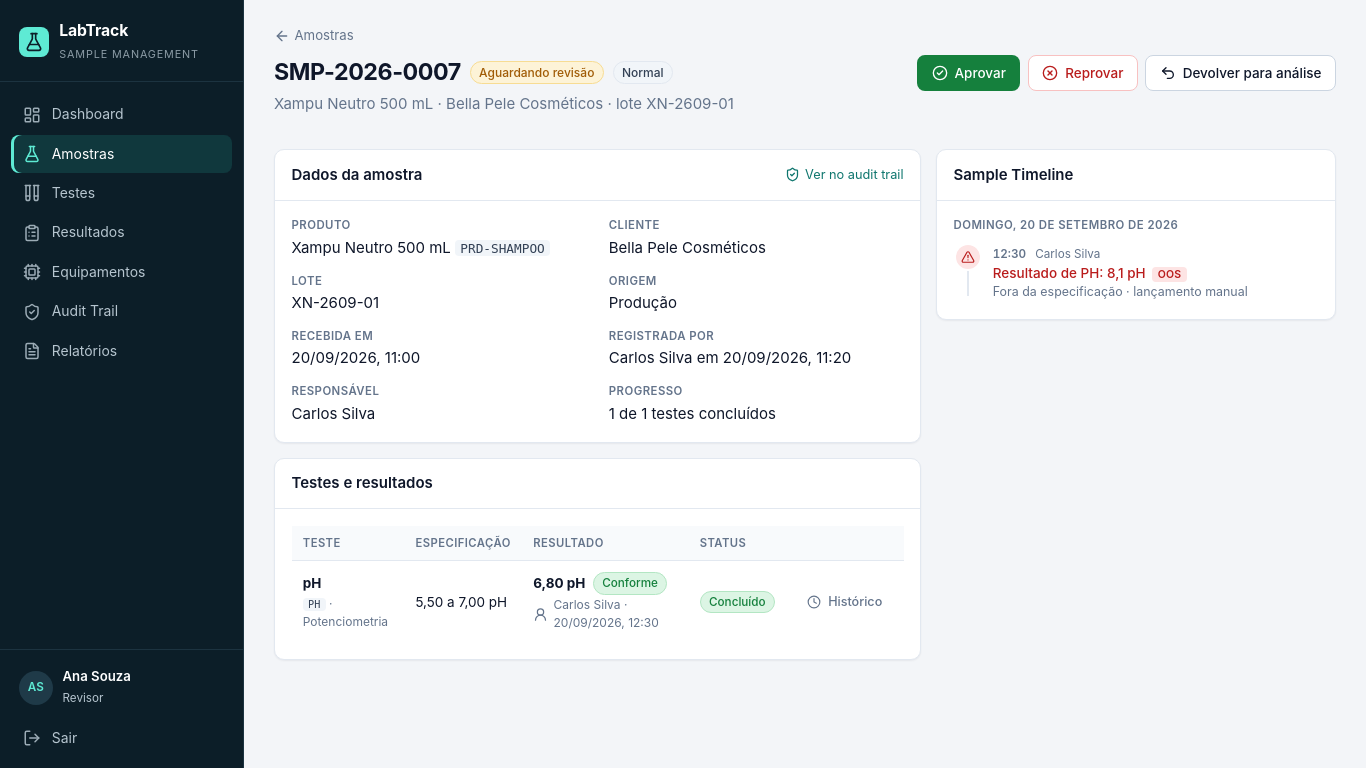
detalhe da amostra › aprovação exige a senha e atualiza a tela
Click the button "Aprovar". click: (969, 73)
box: top-left (917, 55), bottom-right (1020, 91)
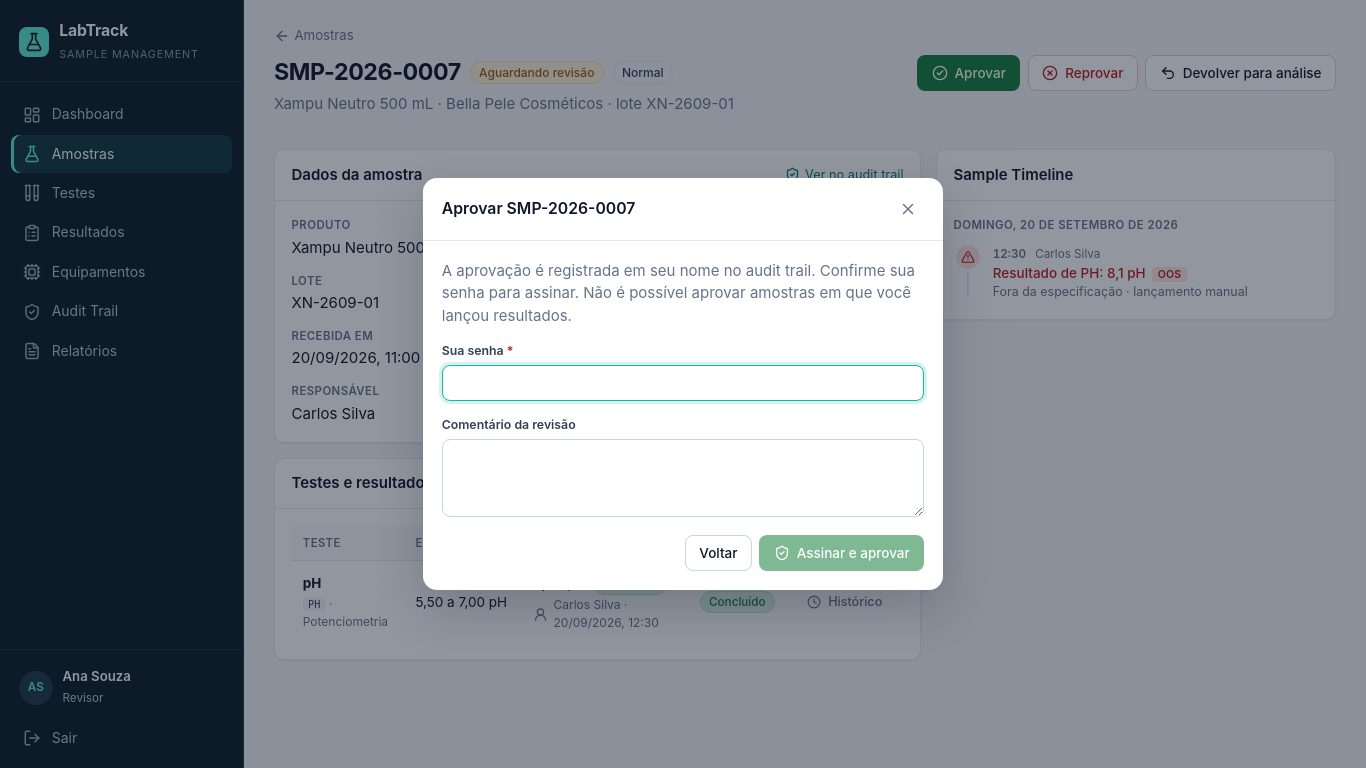
Now the button "Assinar e aprovar" is disabled, box top-left (760, 535), bottom-right (924, 571)
Type "Demo@2026" into the password field labelled "Sua senha *". click: (683, 383)
box: top-left (442, 365), bottom-right (924, 401)
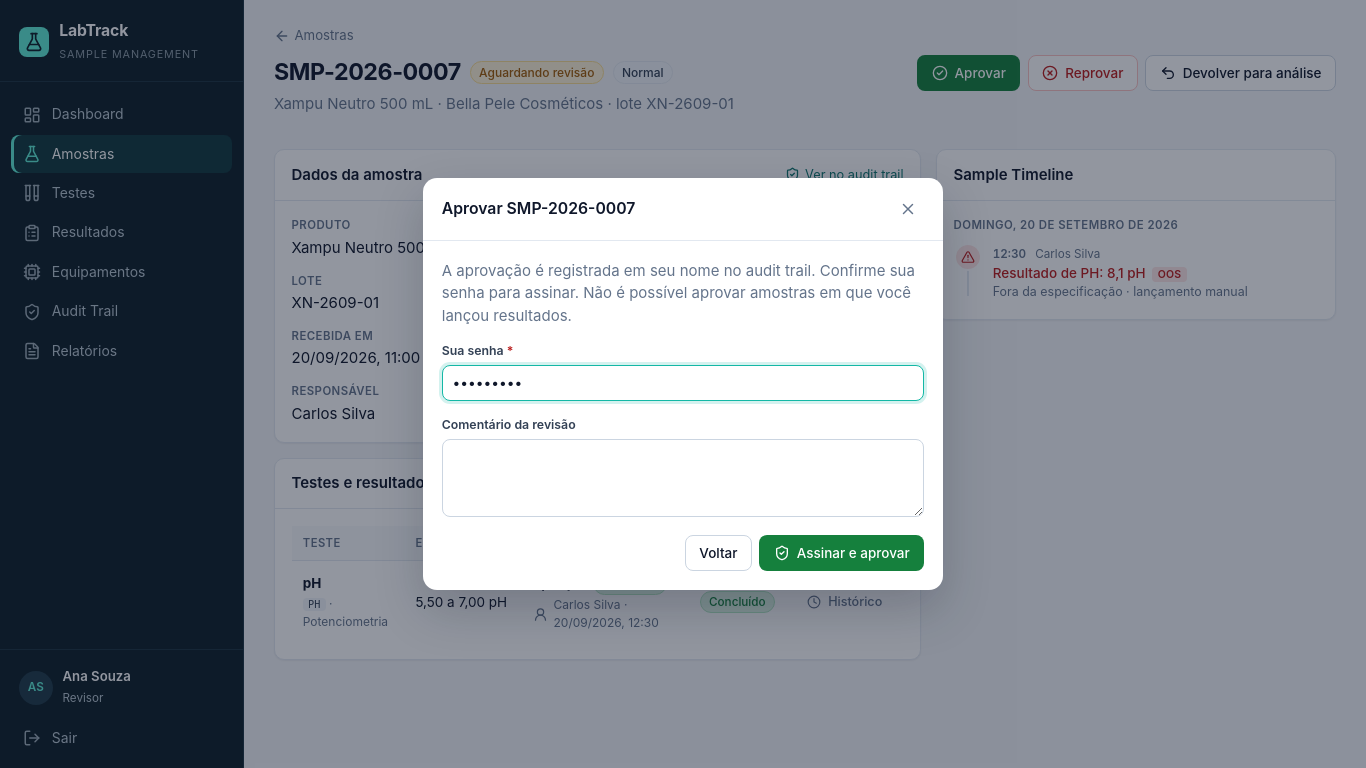
Type "Conferido" into the text box labelled "Comentário da revisão". click: (683, 478)
box: top-left (442, 439), bottom-right (924, 517)
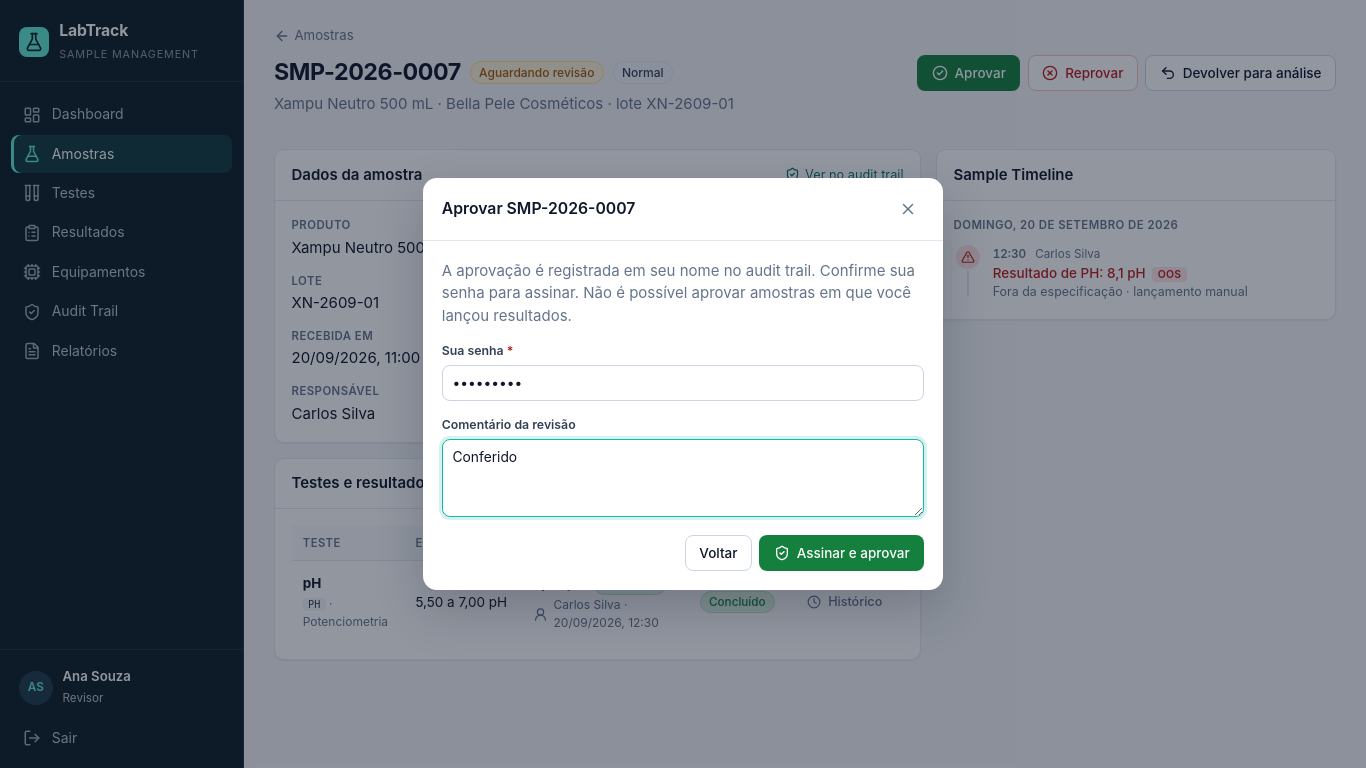
Click the button "Assinar e aprovar". click: (842, 553)
box: top-left (760, 535), bottom-right (924, 571)
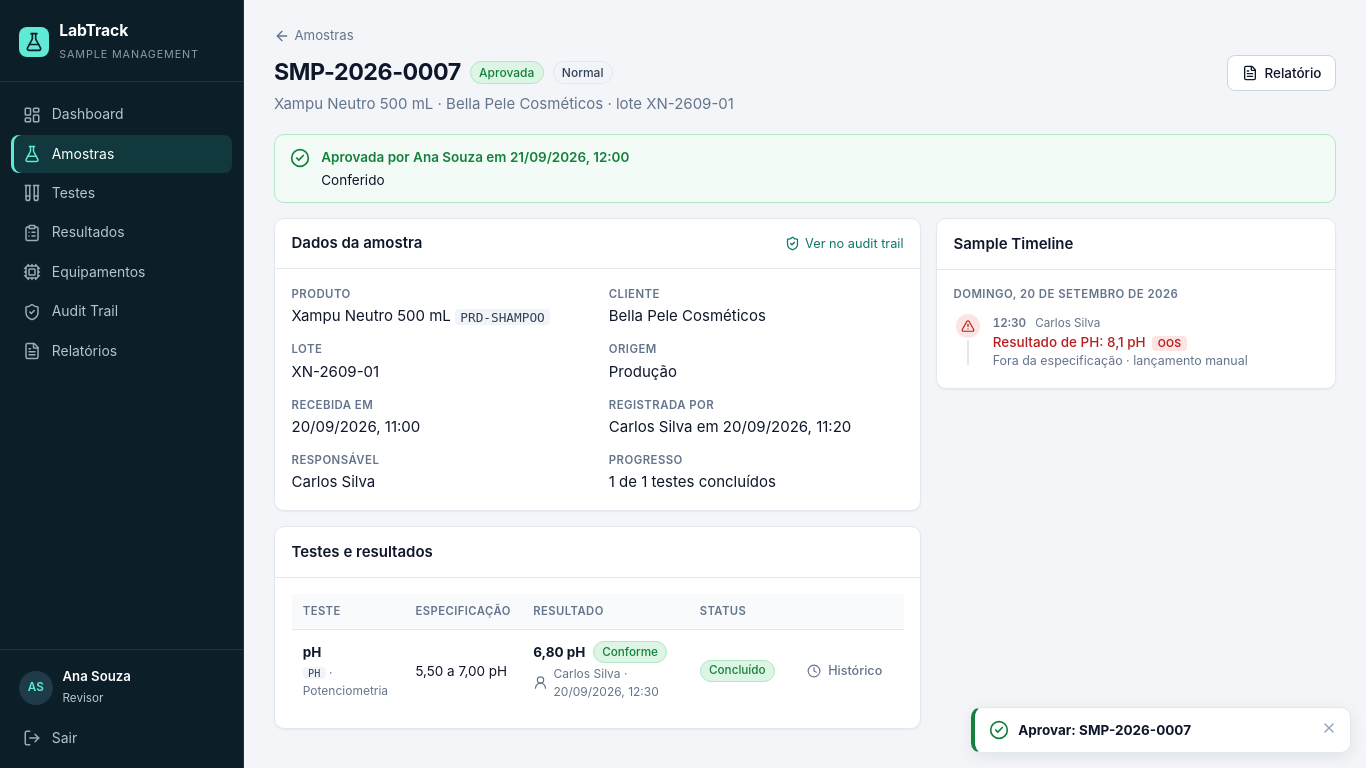
Now the text "Aprovada por Ana Souza em 21/09/2026, 12:00" is shown, box top-left (321, 147), bottom-right (630, 168)
